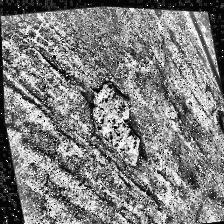pothole: (83, 74, 147, 170)
